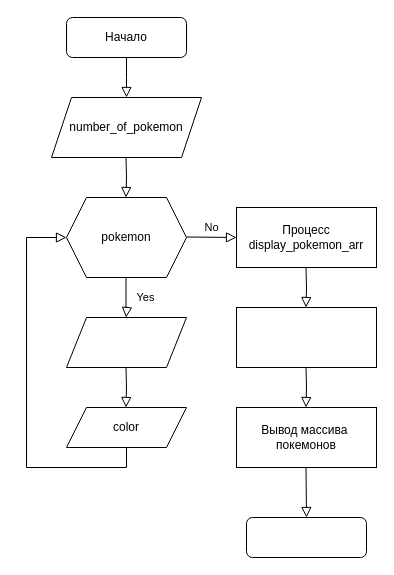
This 394x575 diagram has some shape labels left out. Here are the shapes that lost their labels. From the top down, the box of each, then its label:
(66, 316, 186, 368): name
(236, 306, 376, 368): Форматирование массива покемонов
(246, 516, 366, 558): Конец
